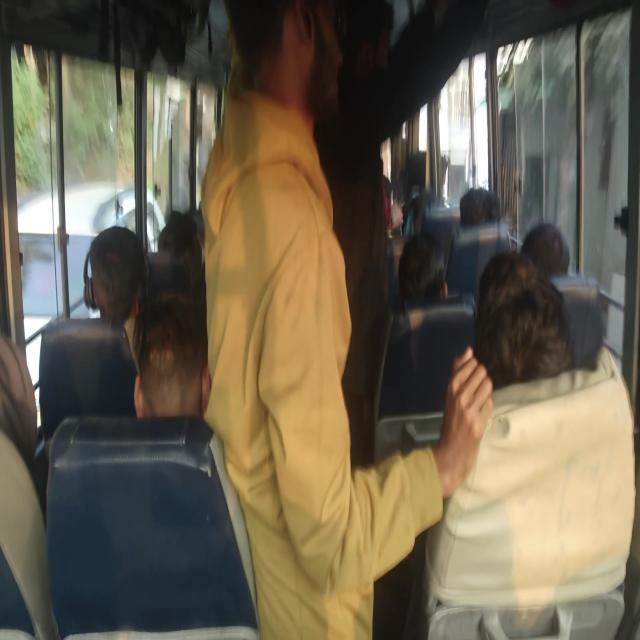person: (119, 286, 231, 441), (478, 269, 585, 387), (0, 359, 53, 572), (233, 7, 313, 136), (78, 226, 150, 350), (326, 0, 412, 95), (400, 225, 452, 310), (457, 169, 501, 246), (531, 221, 582, 287), (154, 197, 196, 268), (407, 146, 455, 207)
